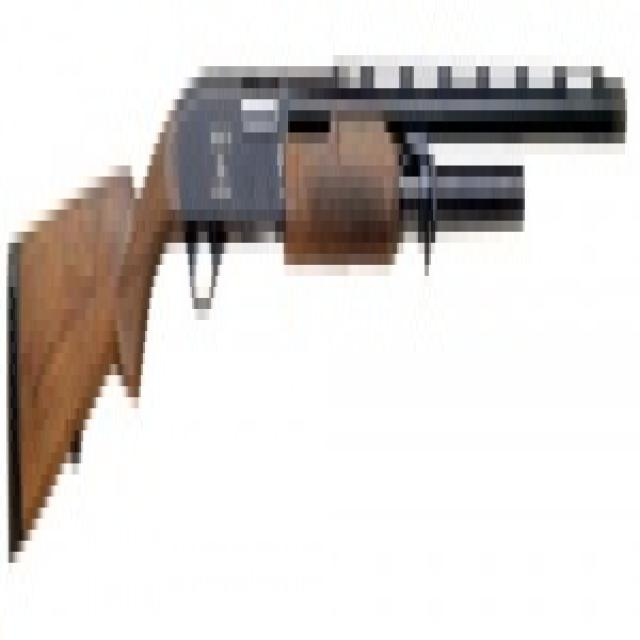rifle: (3, 1, 639, 578)
